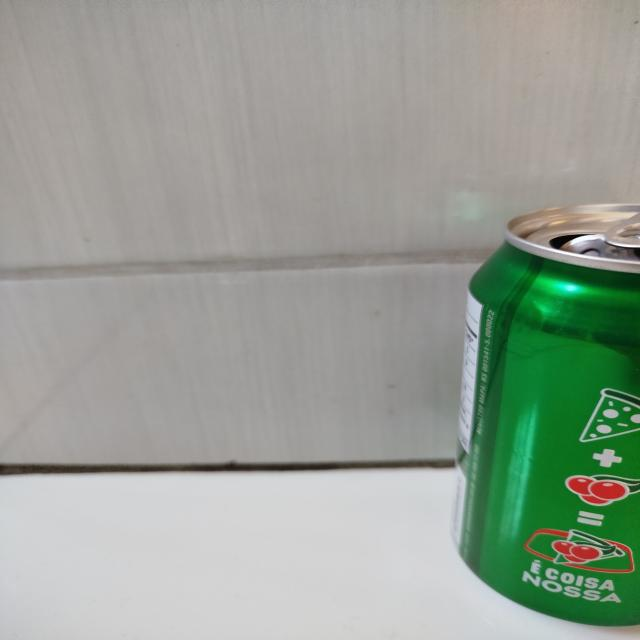Guarana: (451, 201, 640, 625)
